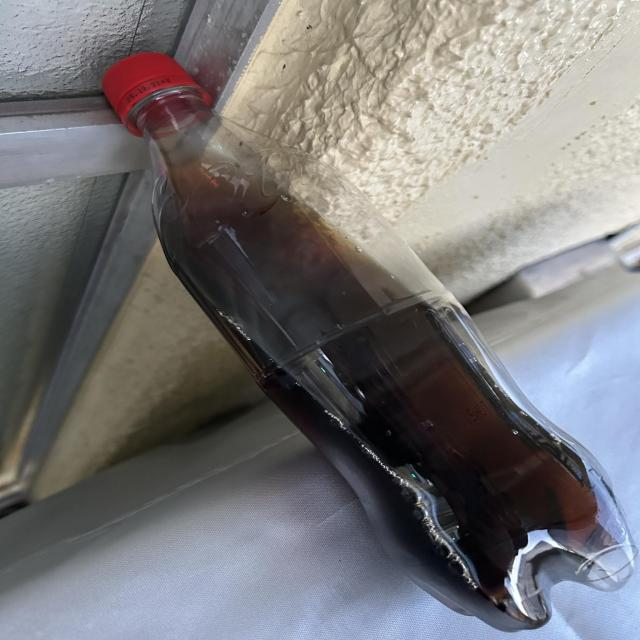medium: (103, 53, 635, 632)
